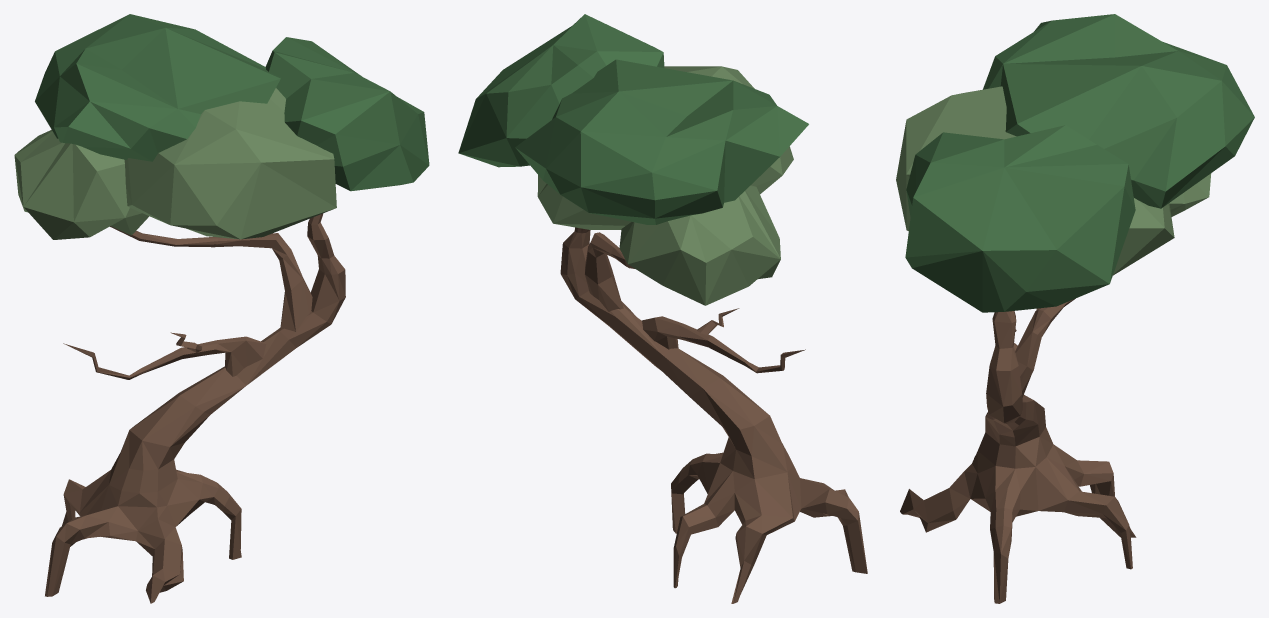
File: _tree_6.fbx
The picture shows the model from 3 angles, left to right: view 1: azimuth 30°, elevation 25°; view 2: azimuth 150°, elevation 25°; view 3: azimuth 270°, elevation 25°; orthographic projection. The views are drawn at different scales.
Parts seen in each view (by area): view 1: tree_6; view 2: tree_6; view 3: tree_6.
Part boxes in pixels (x1,y1,x2,y2): tree_6: (14,14,429,603); tree_6: (458,14,867,603); tree_6: (896,14,1254,603).
Bounding box in the file's own units: 458 × 571 × 349.
